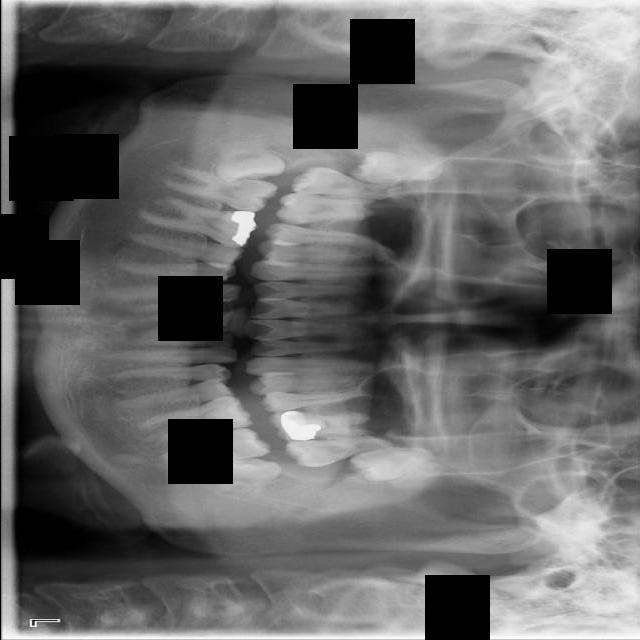3M ESPE Implant: (348, 152, 447, 184)
52: (208, 199, 262, 254), (266, 402, 320, 450)
73: (92, 578, 106, 578)
BioHorizons Implant: (282, 435, 393, 469)
BioLife Implant: (346, 441, 437, 486)
Biomet 3i Implant: (208, 452, 282, 502)
Blue Sky Bio Implant: (157, 423, 273, 476)
Caries: (289, 163, 402, 204)
Implant: (159, 164, 278, 217)
Keystone Dental Implant: (211, 131, 286, 186)
